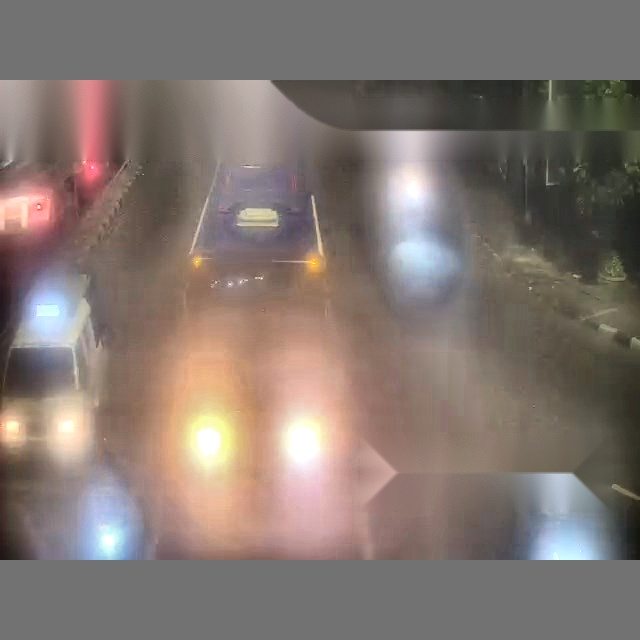Truk: (0, 80, 130, 236)
